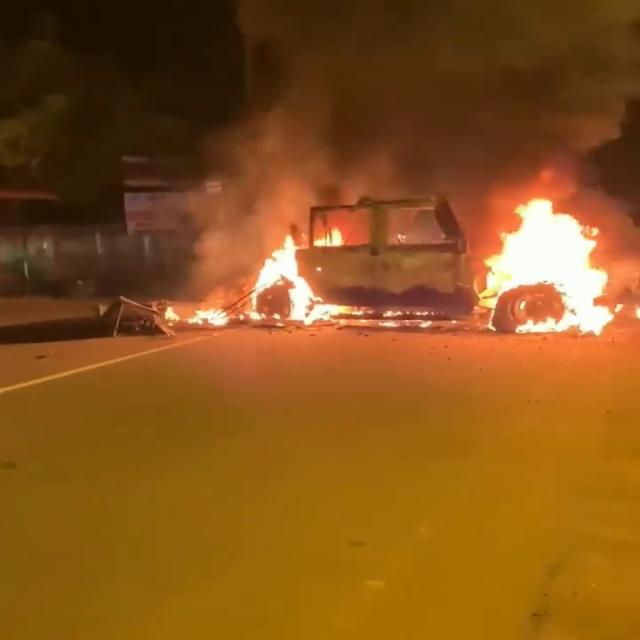Fire: (476, 197, 640, 338), (249, 237, 327, 326)
